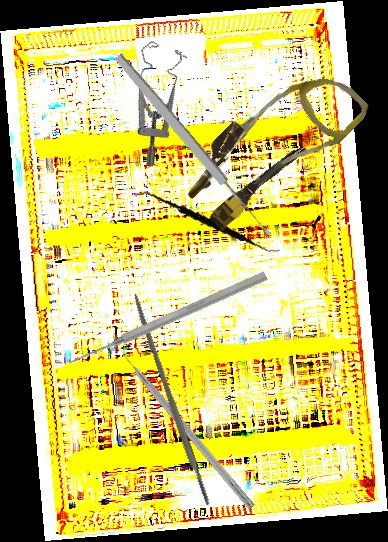Cannula: (173, 44, 373, 248)
Chopper: (112, 335, 264, 510)
Handpiece: (197, 143, 308, 230)
Pusher: (66, 268, 269, 370)
Scalpel Handle: (130, 293, 212, 508)
Spatula Surgical: (135, 173, 280, 273)
Speculum: (94, 34, 209, 169)
Surgical Spoon: (112, 51, 274, 241)
